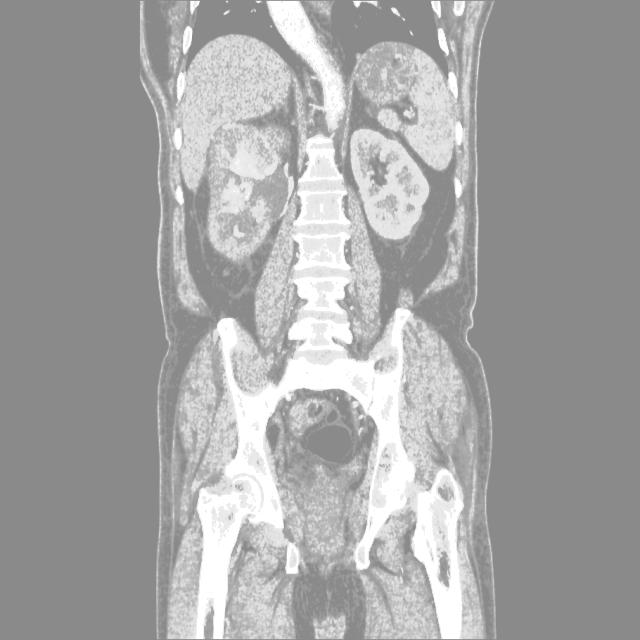TUMOR: (170, 120, 502, 311)
